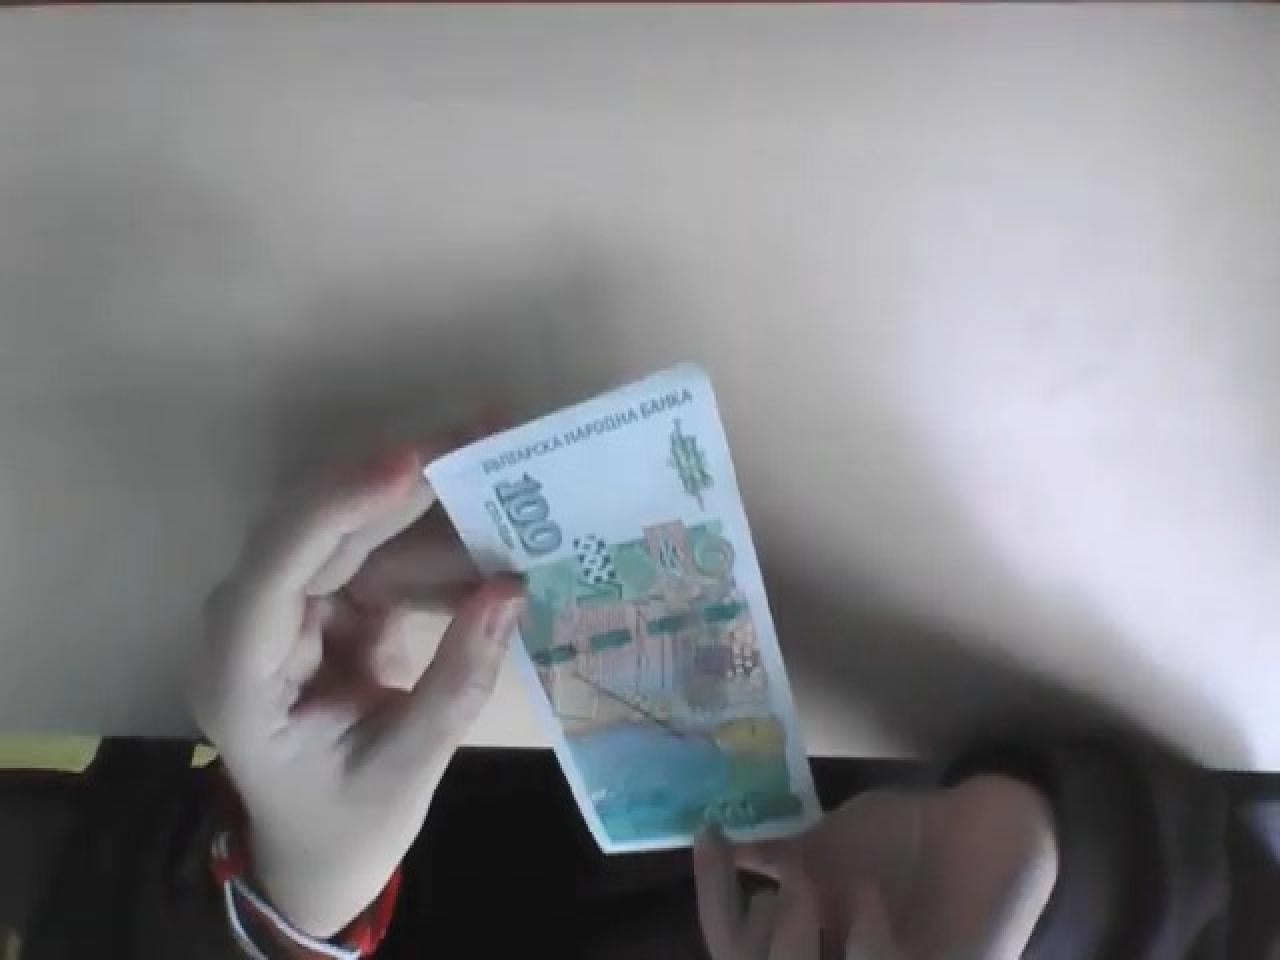100leva: (422, 362, 826, 858)
